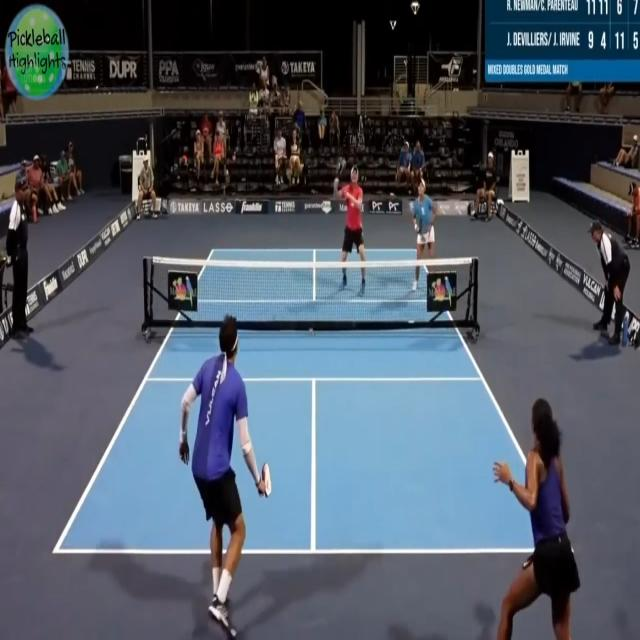Court: (58, 248, 572, 551)
